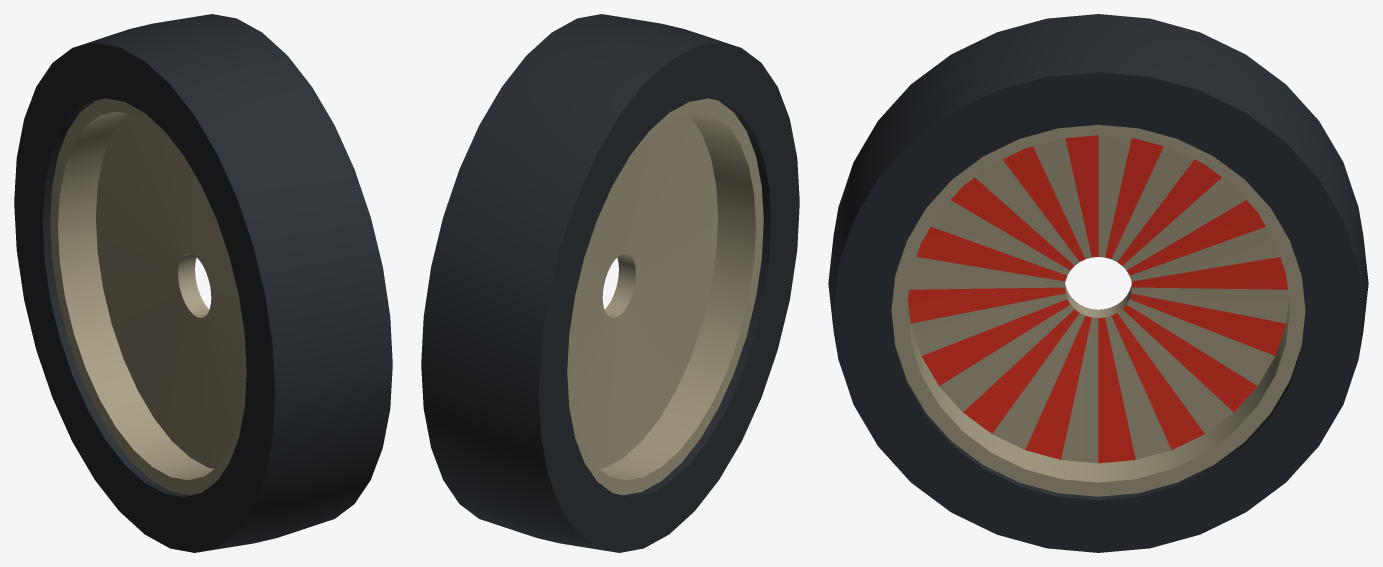
File: Wheel_WH100.glb
The picture shows the model from 3 angles, left to right: view 1: azimuth 30°, elevation 25°; view 2: azimuth 150°, elevation 25°; view 3: azimuth 270°, elevation 25°; orthographic projection.
Parts seen in each view (by area): view 1: Wheel_WH100; view 2: Wheel_WH100; view 3: Wheel_WH100.
Part boxes in pixels (left/top/right/bottom): Wheel_WH100: left=14, top=14, right=392, bottom=552; Wheel_WH100: left=421, top=14, right=799, bottom=552; Wheel_WH100: left=828, top=14, right=1368, bottom=552.
Bounding box in the file's own units: 0.26 × 1.02 × 1.02.
